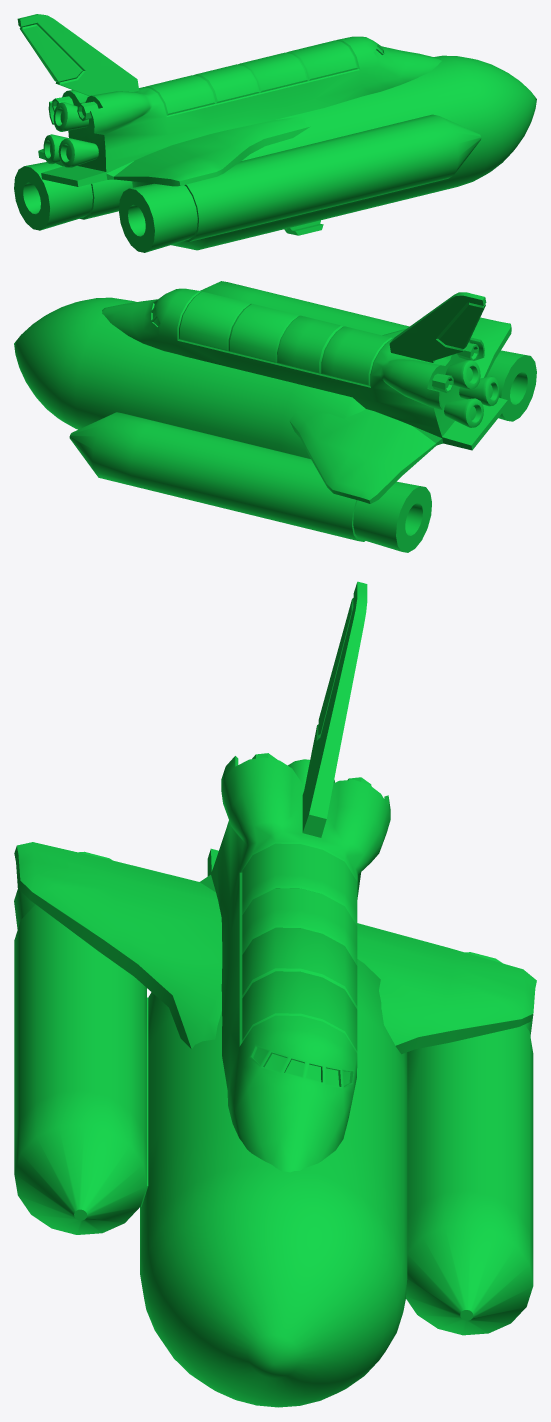
The model's file is rocker_green.glb.
The picture shows the model from 3 angles, top to bottom: view 1: azimuth 30°, elevation 25°; view 2: azimuth 150°, elevation 25°; view 3: azimuth 270°, elevation 25°; orthographic projection. The views are drawn at different scales.
Visible parts, largest first — view 1: node_id32, node_id30; view 2: node_id32, node_id30; view 3: node_id32, node_id30.
Boxes of the visible parts, bbox=[...] form: node_id32: bbox=[14, 55, 536, 252]; node_id30: bbox=[17, 14, 442, 186]; node_id32: bbox=[14, 281, 536, 552]; node_id30: bbox=[102, 288, 511, 503]; node_id32: bbox=[14, 851, 533, 1407]; node_id30: bbox=[14, 581, 536, 1172].
Size of the model in its own units: 0.512 by 0.25 by 0.2548.
Materials: 2 (2 with a texture image).
